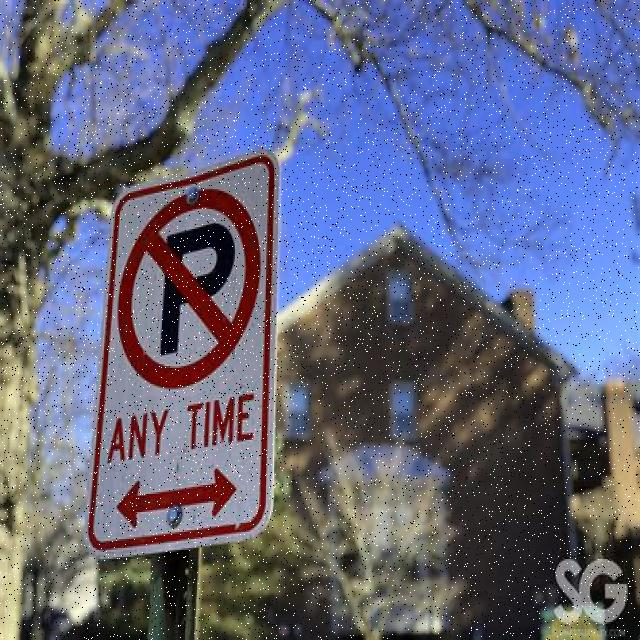No_parking: (112, 196, 261, 386)
